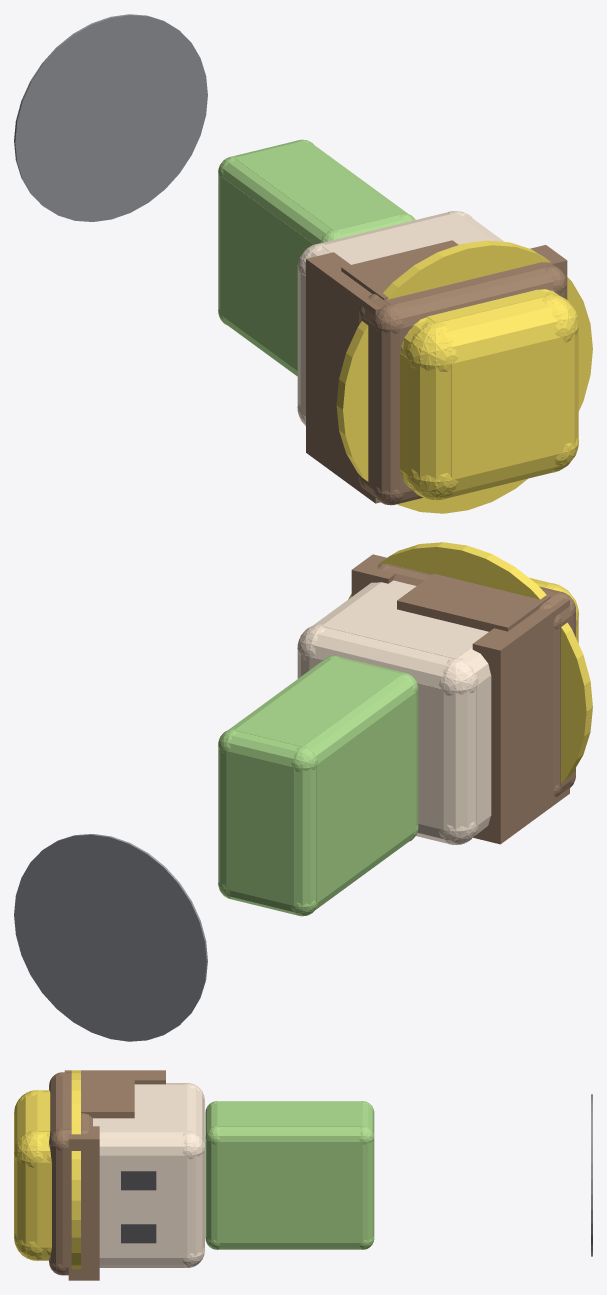
File: person.glb
3 renders of one model, top to bottom at view 1: azimuth 30°, elevation 25°; view 2: azimuth 150°, elevation 25°; view 3: azimuth 270°, elevation 25°, orthographic. The views are drawn at different scales.
Parts seen in each view (by area): view 1: shadow_visual, hat_crown_z_visual, hat_brim_visual, torso_x_visual, hair_back_visual, torso_y_visual, hat_crown_edge5_visual, hat_crown_edge3_visual, hair_top_edge5_visual, head_y_visual, hair_top_edge3_visual, torso_edge9_visual (+13 smaller); view 2: shadow_visual, torso_x_visual, hair_back_visual, torso_z_visual, hat_brim_visual, torso_y_visual, head_y_visual, hair_side_left_visual, head_edge4_visual, head_edge2_visual, head_z_visual, torso_edge4_visual (+11 smaller); view 3: torso_x_visual, head_x_visual, hair_fringe_visual, torso_y_visual, head_y_visual, hair_side_left_visual, torso_edge11_visual, hat_crown_edge7_visual, head_edge11_visual, head_edge6_visual, hat_brim_visual, hair_top_edge7_visual (+19 smaller).
Part boxes in pixels (<box>): shadow_visual: <box>14,14,207,221</box>; hat_crown_z_visual: <box>451,337,562,479</box>; hat_brim_visual: <box>336,240,592,513</box>; torso_x_visual: <box>220,176,313,370</box>; hair_back_visual: <box>306,252,380,503</box>; torso_y_visual: <box>234,141,401,230</box>; hat_crown_edge5_visual: <box>408,322,452,499</box>; hat_crown_edge3_visual: <box>405,295,578,370</box>; hair_top_edge5_visual: <box>374,304,400,505</box>; head_y_visual: <box>322,213,493,264</box>; hair_top_edge3_visual: <box>373,266,566,332</box>; torso_edge9_visual: <box>219,156,341,244</box>; shadow_visual: <box>14,834,207,1041</box>; torso_x_visual: <box>316,692,416,902</box>; hair_back_visual: <box>472,598,569,844</box>; torso_z_visual: <box>226,751,294,905</box>; hat_brim_visual: <box>348,542,592,783</box>; torso_y_visual: <box>234,657,401,746</box>; head_y_visual: <box>321,580,488,658</box>; hair_side_left_visual: <box>397,573,550,631</box>; head_edge4_visual: <box>443,658,476,844</box>; head_edge2_visual: <box>297,625,478,694</box>; head_z_visual: <box>309,657,443,829</box>; torso_edge4_visual: <box>294,746,316,916</box>; torso_x_visual: <box>217,1142,362,1242</box>; head_x_visual: <box>99,1155,187,1257</box>; hair_fringe_visual: <box>68,1126,99,1280</box>; torso_y_visual: <box>217,1102,362,1126</box>; head_y_visual: <box>93,1084,187,1132</box>; hair_side_left_visual: <box>81,1072,134,1118</box>; torso_edge11_visual: <box>205,1126,374,1142</box>; hat_crown_edge7_visual: <box>14,1130,43,1260</box>; head_edge11_visual: <box>99,1132,204,1156</box>; head_edge6_visual: <box>183,1131,204,1267</box>; hat_brim_visual: <box>71,1070,80,1269</box>; hair_top_edge7_visual: <box>49,1128,65,1275</box>.
Bounding box in the file's own units: 0.436 × 0.436 × 1.2.
